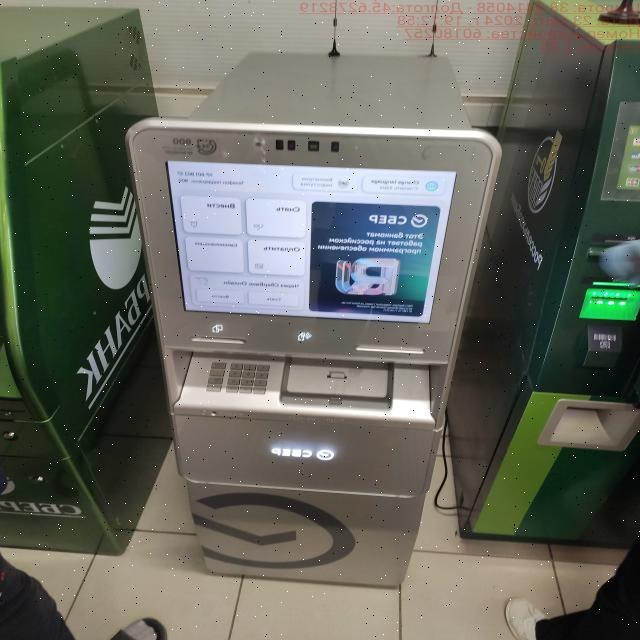bank: (124, 54, 502, 592), (0, 8, 177, 556)
